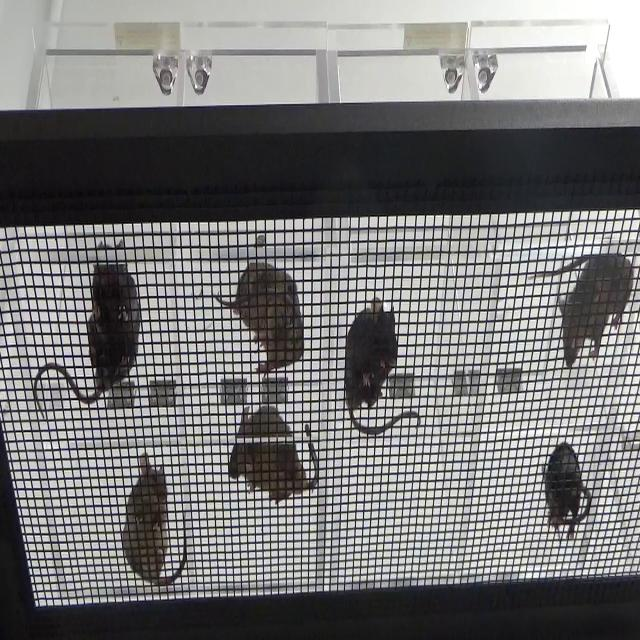lick claw: (334, 278, 426, 449)
